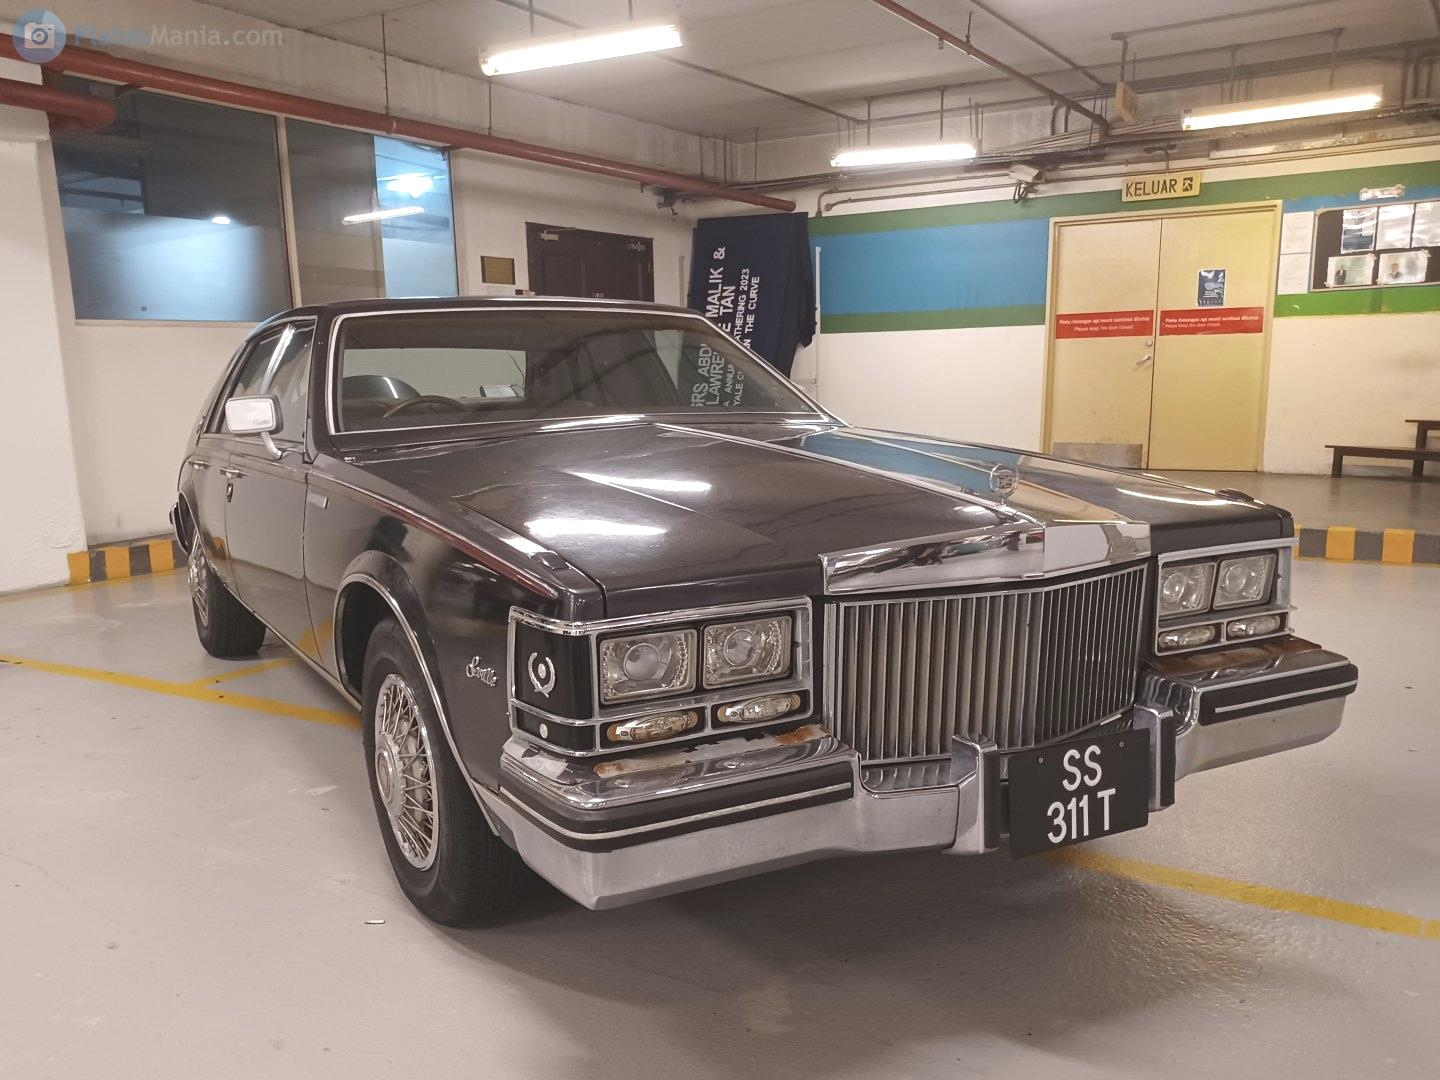License Plate: (1012, 727, 1150, 856)
